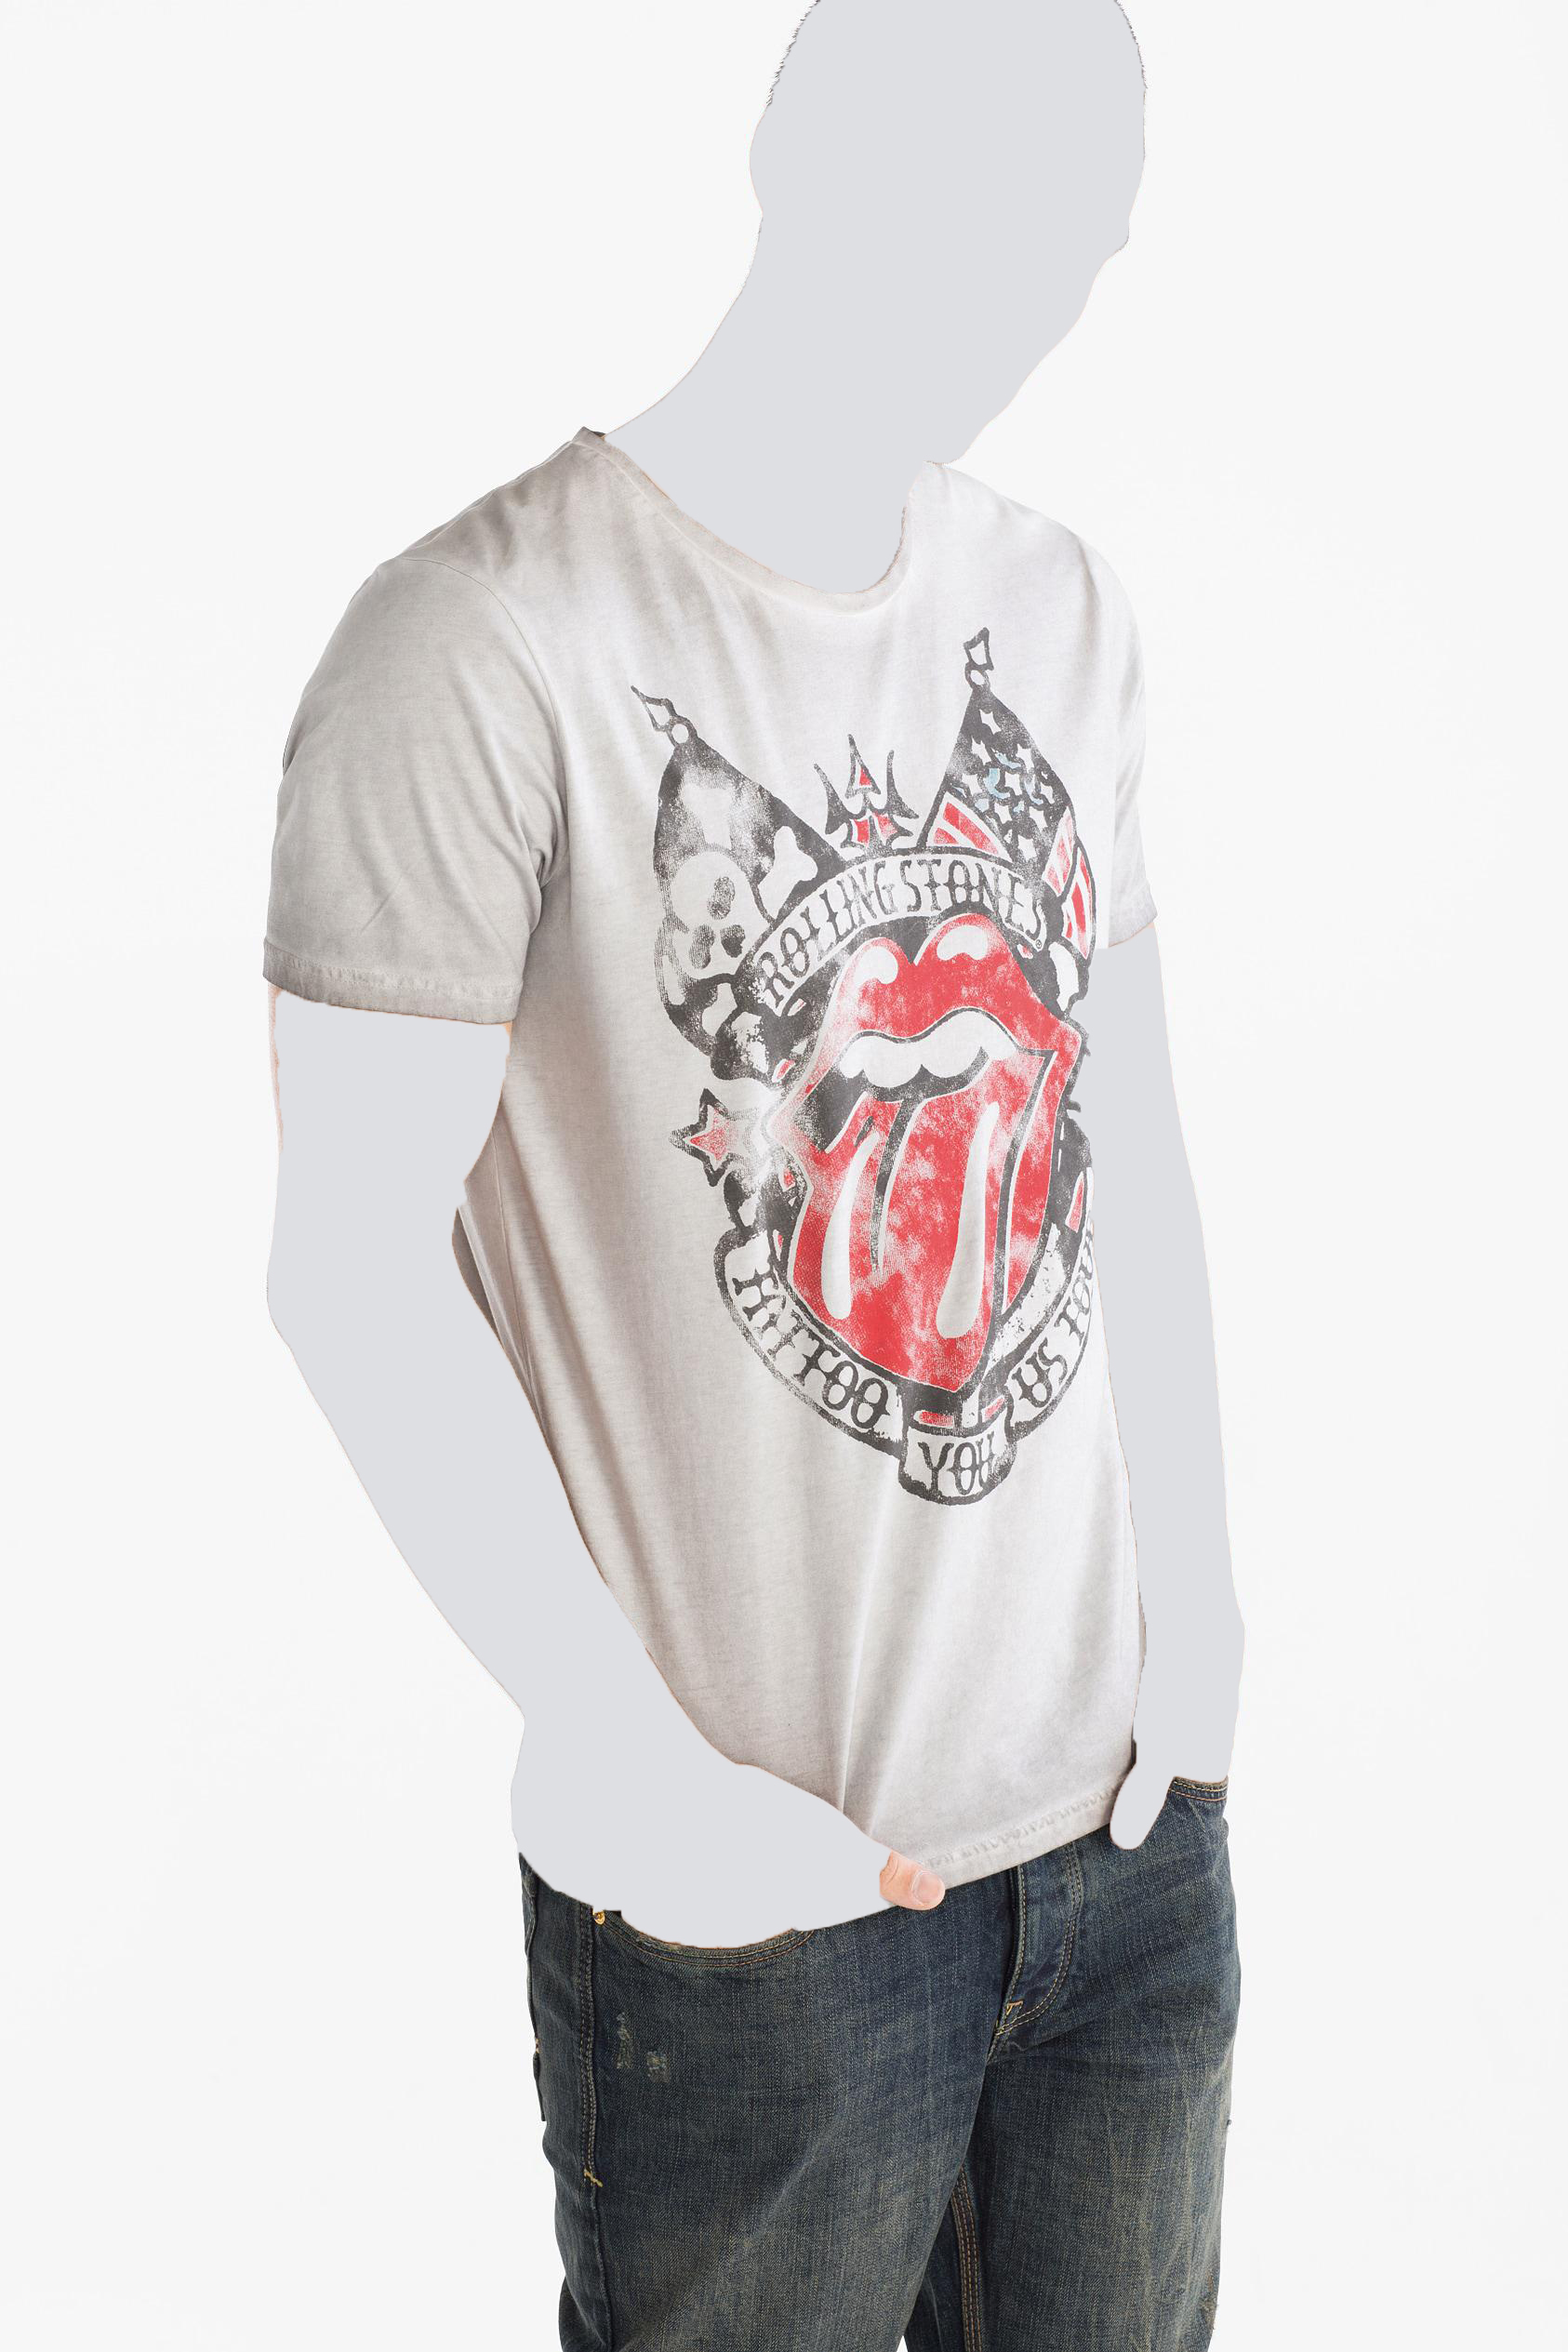teeshirt: (242, 413, 1293, 1909)
